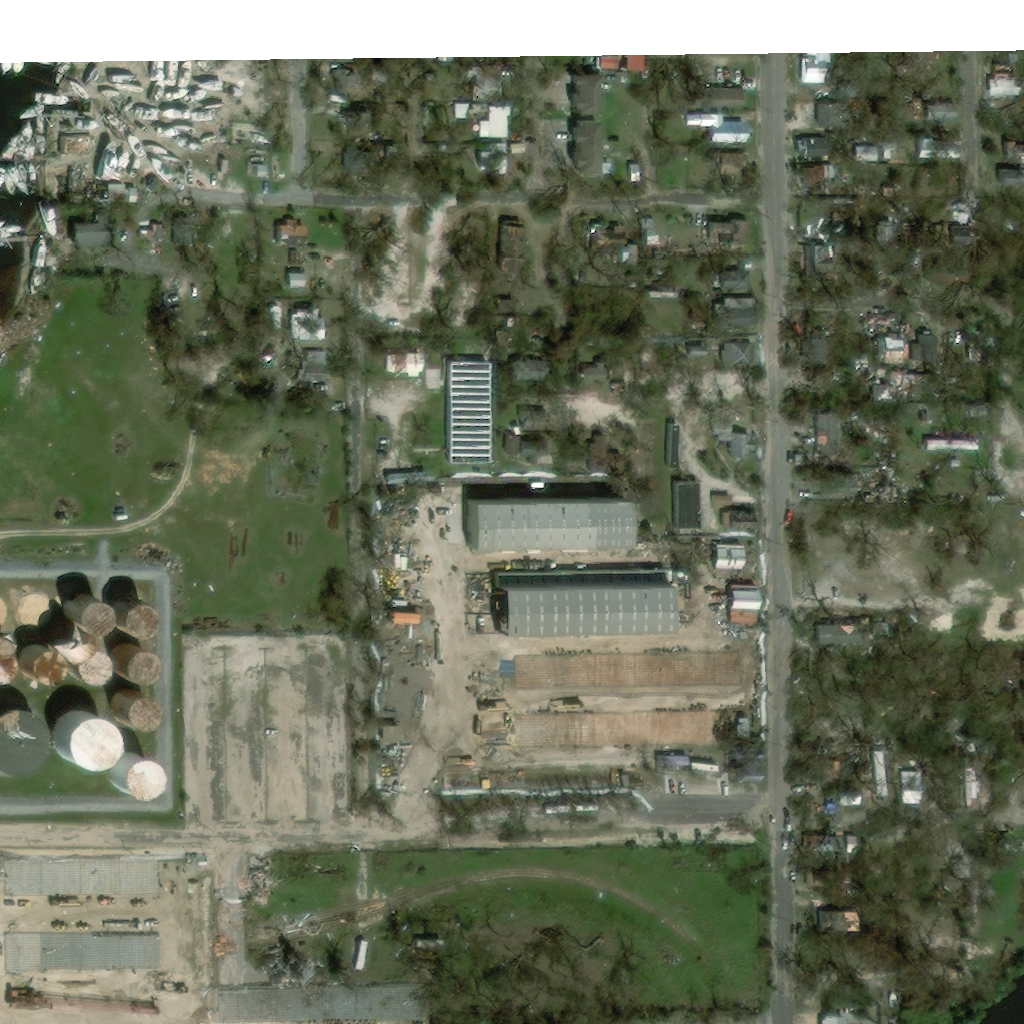destroyed: (518, 713, 576, 753), (386, 541, 427, 564), (384, 588, 424, 611), (385, 565, 426, 587), (375, 498, 412, 520), (982, 929, 1003, 966), (982, 615, 1015, 638), (989, 506, 1022, 526), (667, 774, 681, 798), (867, 408, 883, 426)
major_damage: (499, 227, 522, 276), (727, 513, 760, 533), (881, 333, 905, 354), (898, 325, 909, 336)
minor_damage: (69, 219, 127, 252), (802, 49, 832, 85), (815, 412, 838, 458), (275, 218, 308, 249), (385, 354, 423, 380), (986, 65, 1015, 96), (468, 74, 495, 103), (140, 224, 166, 243), (799, 140, 824, 159), (920, 413, 930, 426)
no_damage: (488, 570, 667, 637), (451, 497, 626, 549), (443, 359, 493, 467), (39, 708, 108, 768), (566, 121, 605, 183), (0, 704, 35, 771), (99, 753, 152, 796), (98, 688, 150, 729), (101, 590, 151, 631), (103, 639, 150, 680), (711, 420, 758, 460), (57, 642, 102, 683), (12, 643, 56, 684), (55, 592, 101, 631), (683, 114, 747, 141), (10, 594, 55, 632), (570, 77, 603, 118), (711, 221, 752, 252), (724, 297, 752, 337), (818, 1006, 883, 1023), (476, 145, 508, 177), (291, 314, 326, 343), (476, 108, 507, 139), (577, 361, 620, 381), (702, 91, 747, 110), (735, 751, 761, 781), (520, 406, 550, 428), (923, 439, 975, 450), (655, 754, 686, 769), (691, 754, 719, 768), (623, 51, 642, 71), (962, 769, 971, 811), (286, 272, 309, 288), (855, 147, 878, 162), (0, 647, 10, 679), (0, 595, 9, 630), (503, 436, 518, 455), (248, 166, 266, 179), (713, 495, 729, 506), (880, 143, 889, 159), (595, 57, 606, 69)
unclassified: (252, 909, 327, 952), (10, 983, 54, 1014), (250, 856, 273, 900), (403, 65, 424, 110), (253, 992, 280, 1020), (969, 177, 997, 203), (192, 884, 209, 924), (196, 925, 211, 970), (198, 972, 212, 1013), (438, 62, 457, 92), (137, 866, 183, 878), (351, 938, 360, 970)
